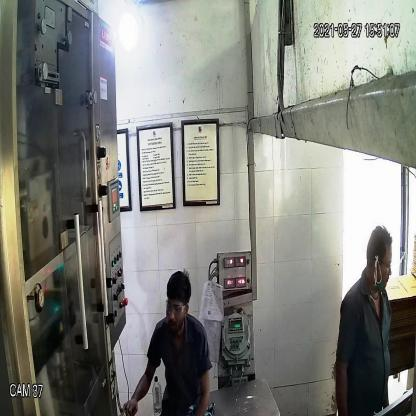goggles: (164, 298, 190, 318)
